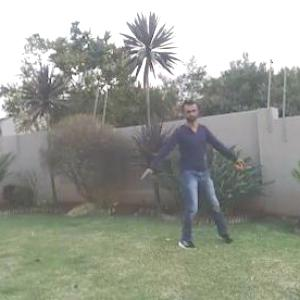land: (123, 96, 252, 254)
